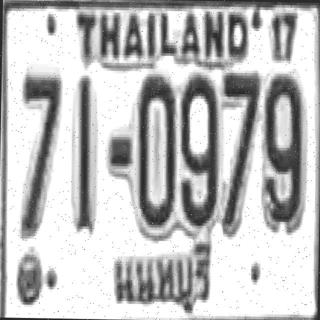N00: (135, 72, 175, 226)
N01: (68, 75, 95, 232), (70, 75, 96, 232), (72, 75, 96, 232)
N07: (18, 66, 61, 234), (220, 70, 259, 234), (222, 70, 258, 179)
N09: (260, 70, 305, 230), (178, 70, 217, 224)
P37: (106, 236, 217, 314)
